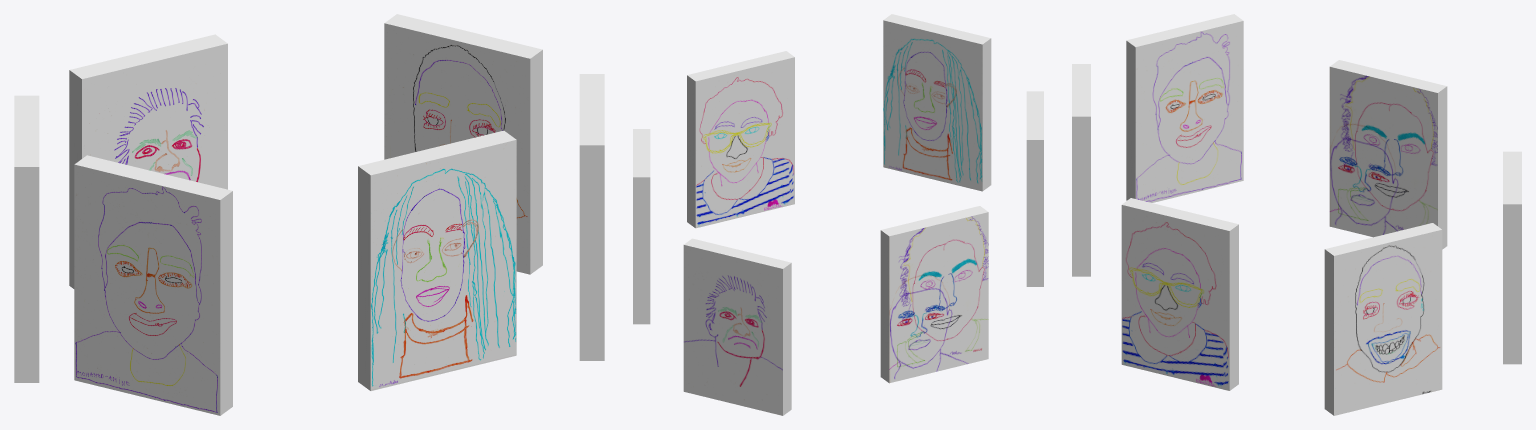
File: 6_portrait.obj
The picture shows the model from 3 angles, left to right: view 1: azimuth 30°, elevation 25°; view 2: azimuth 150°, elevation 25°; view 3: azimuth 270°, elevation 25°; orthographic projection. The views are drawn at different scales.
Visible parts, largest first — view 1: Cube_5, Cube_4, Cube_2, Cube_1, Cube_6, Cube_3; view 2: Cube_1, Cube_4, Cube_6, Cube_3, Cube_5, Cube_2; view 3: Cube_2, Cube_3, Cube_5, Cube_6, Cube_1, Cube_4.
Boxes of the visible parts, x1,y1,x2,y2 form: Cube_5: [74, 155, 232, 415]; Cube_4: [358, 130, 516, 390]; Cube_2: [384, 14, 542, 274]; Cube_1: [69, 34, 227, 288]; Cube_6: [14, 95, 39, 382]; Cube_3: [579, 74, 604, 360]; Cube_1: [683, 238, 791, 415]; Cube_4: [883, 14, 991, 191]; Cube_6: [880, 206, 988, 383]; Cube_3: [687, 51, 794, 228]; Cube_5: [1026, 91, 1043, 286]; Cube_2: [633, 129, 650, 324]; Cube_2: [1324, 223, 1442, 415]; Cube_3: [1121, 198, 1238, 390]; Cube_5: [1126, 14, 1243, 202]; Cube_6: [1329, 60, 1447, 249]; Cube_1: [1503, 151, 1521, 364]; Cube_4: [1072, 64, 1090, 276].
Bounding box in the file's own units: 1102 × 654 × 1080.
Materials: 7 (6 with a texture image).
